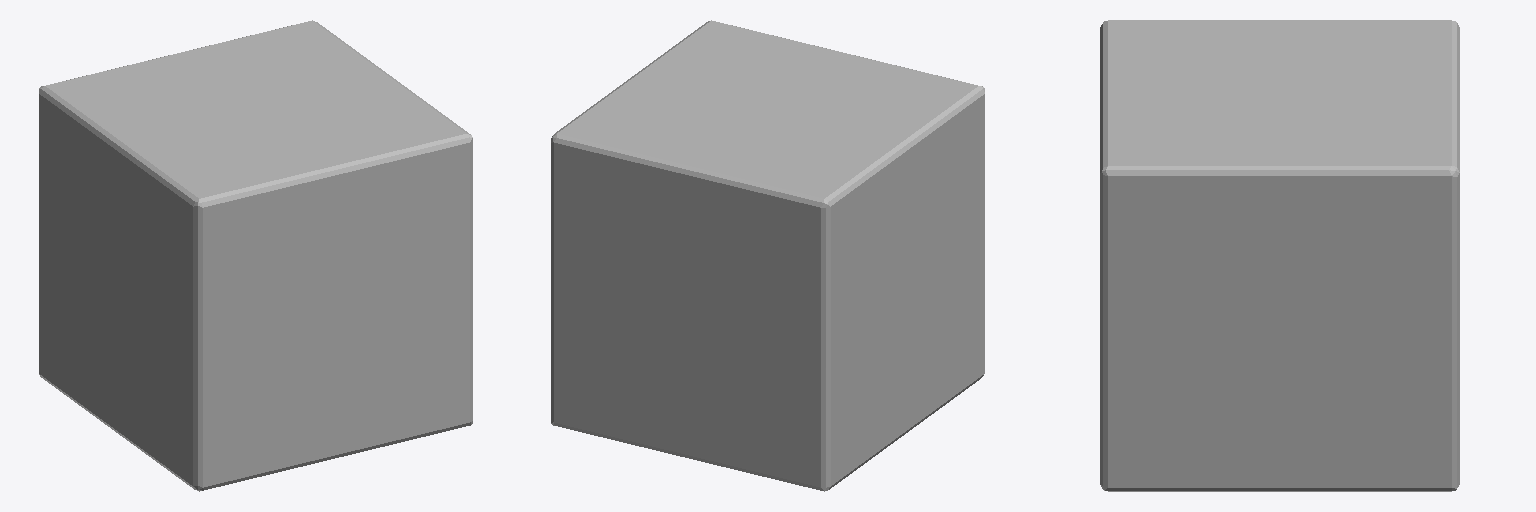
URDF robot description (root):
<robot name="root">
  <link name="link_coacd_convex_piece_0">
    <inertial>
      <origin xyz="0 0 0" rpy="0 0 0"/>
      <inertia ixx="3.03E-01" ixy="1.37E-06" ixz="1.36E-06" iyy="3.03E-01" iyz="1.37E-06" izz="3.03E-01"/>
    </inertial>
    <visual>
      <origin xyz="0 0 0" rpy="0 0 0"/>
      <geometry>
        <mesh filename="block/coacd_convex_piece_0.obj" scale="1.0000E+00 1.0000E+00 1.0000E+00"/>
      </geometry>
      <material name="">
        <color rgba="7.50E-01 7.50E-01 7.50E-01 1"/>
      </material>
    </visual>
    <collision>
      <origin xyz="0 0 0" rpy="0 0 0"/>
      <geometry>
        <mesh filename="block/coacd_convex_piece_0.obj" scale="1.0000E+00 1.0000E+00 1.0000E+00"/>
      </geometry>
    </collision>
  </link>
</robot>

--- Facts derived from the render (not from the file) ---
3 views of the same robot in one strip: view 1: azimuth 30°, elevation 25°; view 2: azimuth 150°, elevation 25°; view 3: azimuth 270°, elevation 25° (orthographic).
Robot: root — 1 links, 0 joints (none); root link link_coacd_convex_piece_0; default pose: every joint at zero.
Links seen in each view (by area): view 1: link_coacd_convex_piece_0; view 2: link_coacd_convex_piece_0; view 3: link_coacd_convex_piece_0.
Boxes of the visible links, left/top/right/bottom form: link_coacd_convex_piece_0: left=39, top=20, right=472, bottom=491; link_coacd_convex_piece_0: left=551, top=20, right=984, bottom=491; link_coacd_convex_piece_0: left=1100, top=20, right=1459, bottom=491.
Size in the robot's own frame: 1.14 by 1.14 by 1.14 metres.
1 mesh visuals loaded from 1 distinct referenced files (1 OBJ).